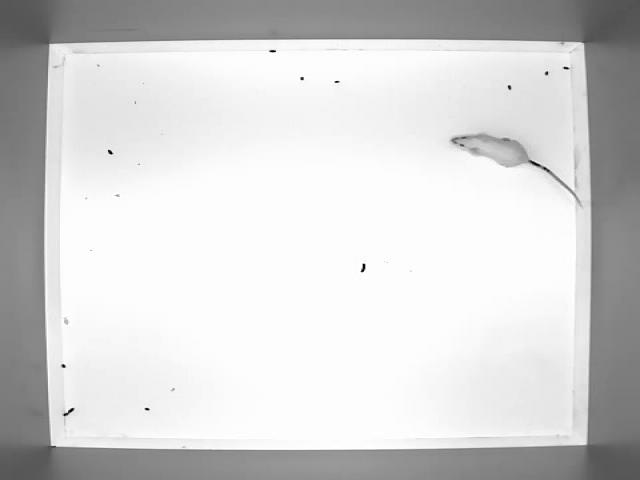Tikus: (444, 131, 598, 202)
